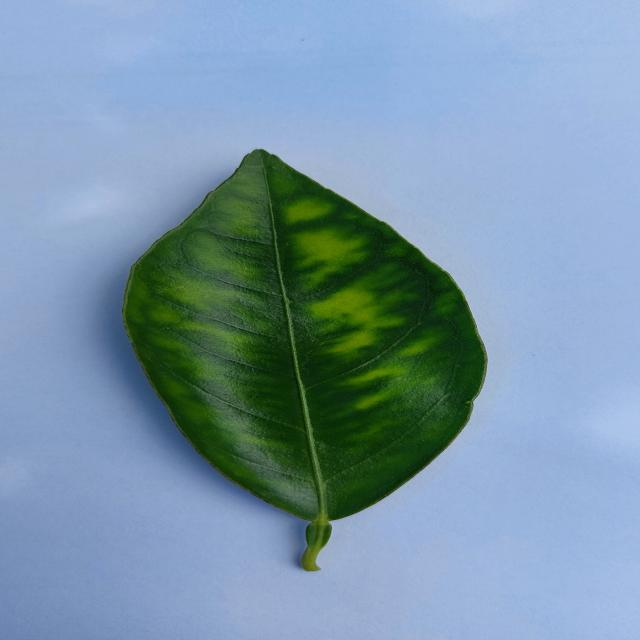greening: (125, 150, 485, 570)
